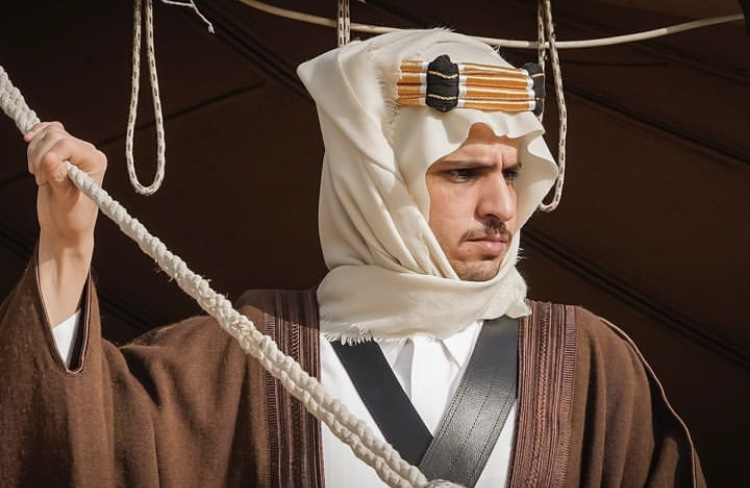Saudi_Founding_Day: (1, 26, 709, 488)
